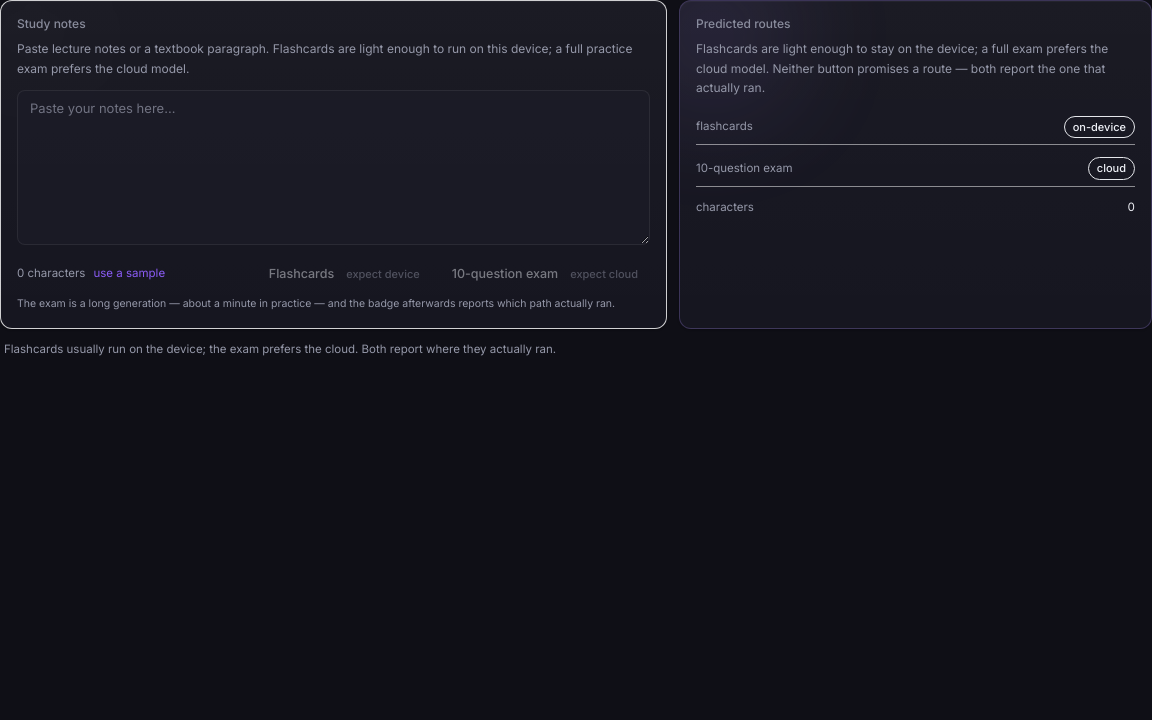
Test case: QuizPage › renders flashcards returned by the engine and reveals an answer on click
The width and height of the screenshot is (1152, 720).
Step 1. Type "Some lecture notes about circuits." into the text box named "Study notes" → (334, 167), box [17,90,650,244]
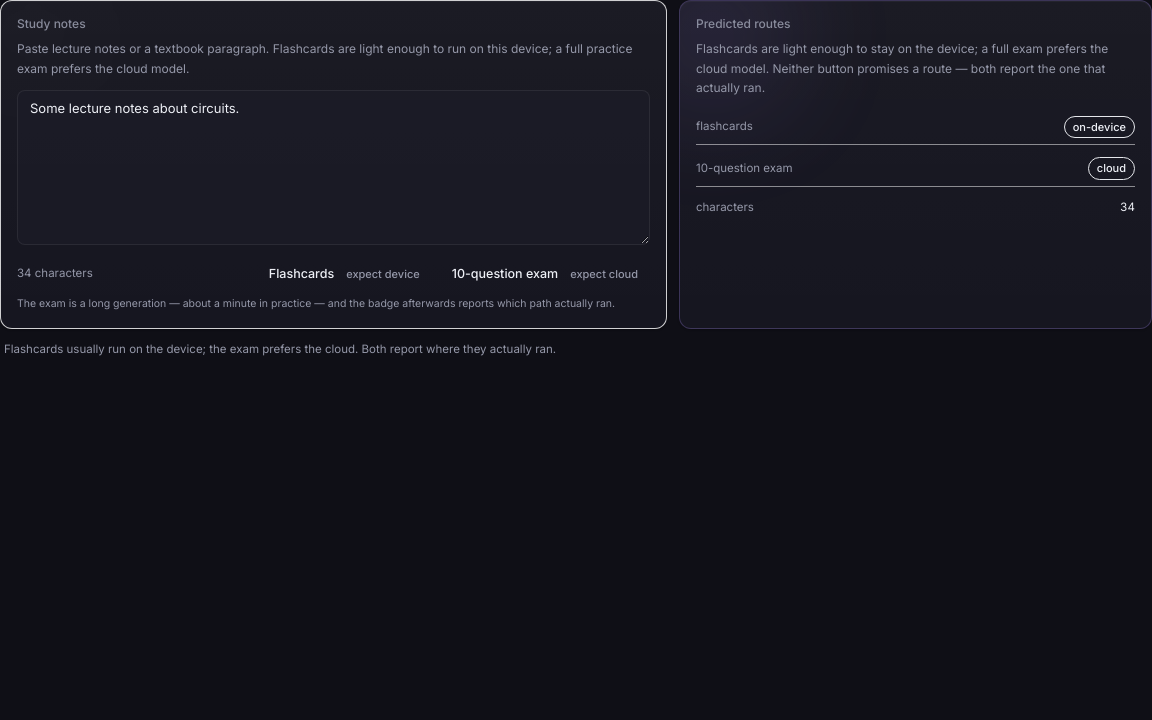
Step 2. Click the button "Flashcards expect device" → (344, 274), box [257,258,432,289]
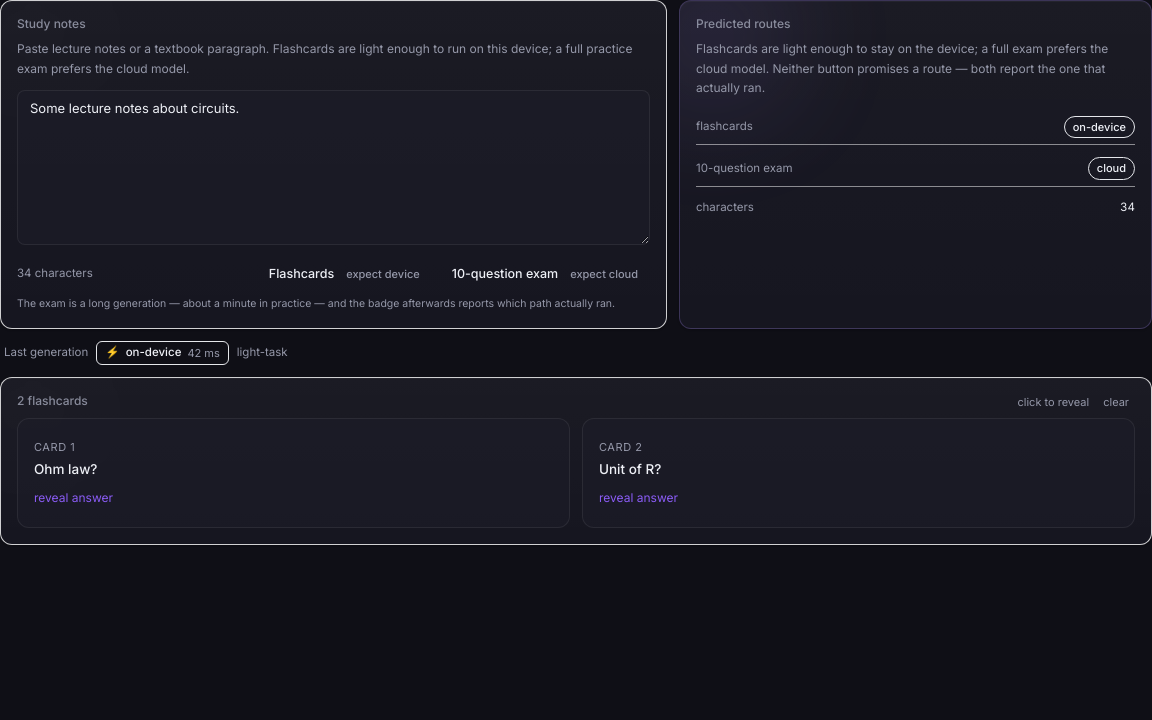
Now the text "Ohm law?" is shown
Now the text "Unit of R?" is shown, box [599,461,662,477]
Now the heading "2 flashcards" is shown, box [17,392,88,410]
Step 3. Click the text "Ohm law?" → (66, 469), box [34,461,98,477]
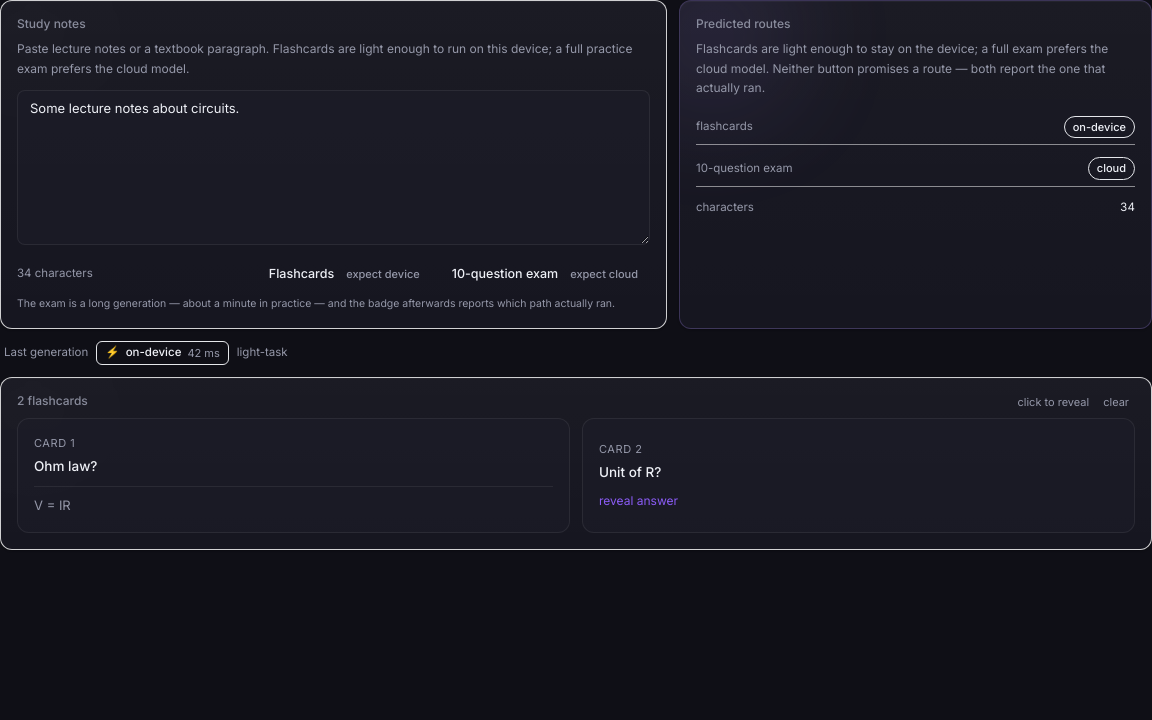
Now the text "V = IR" is shown, box [34,486,553,516]
